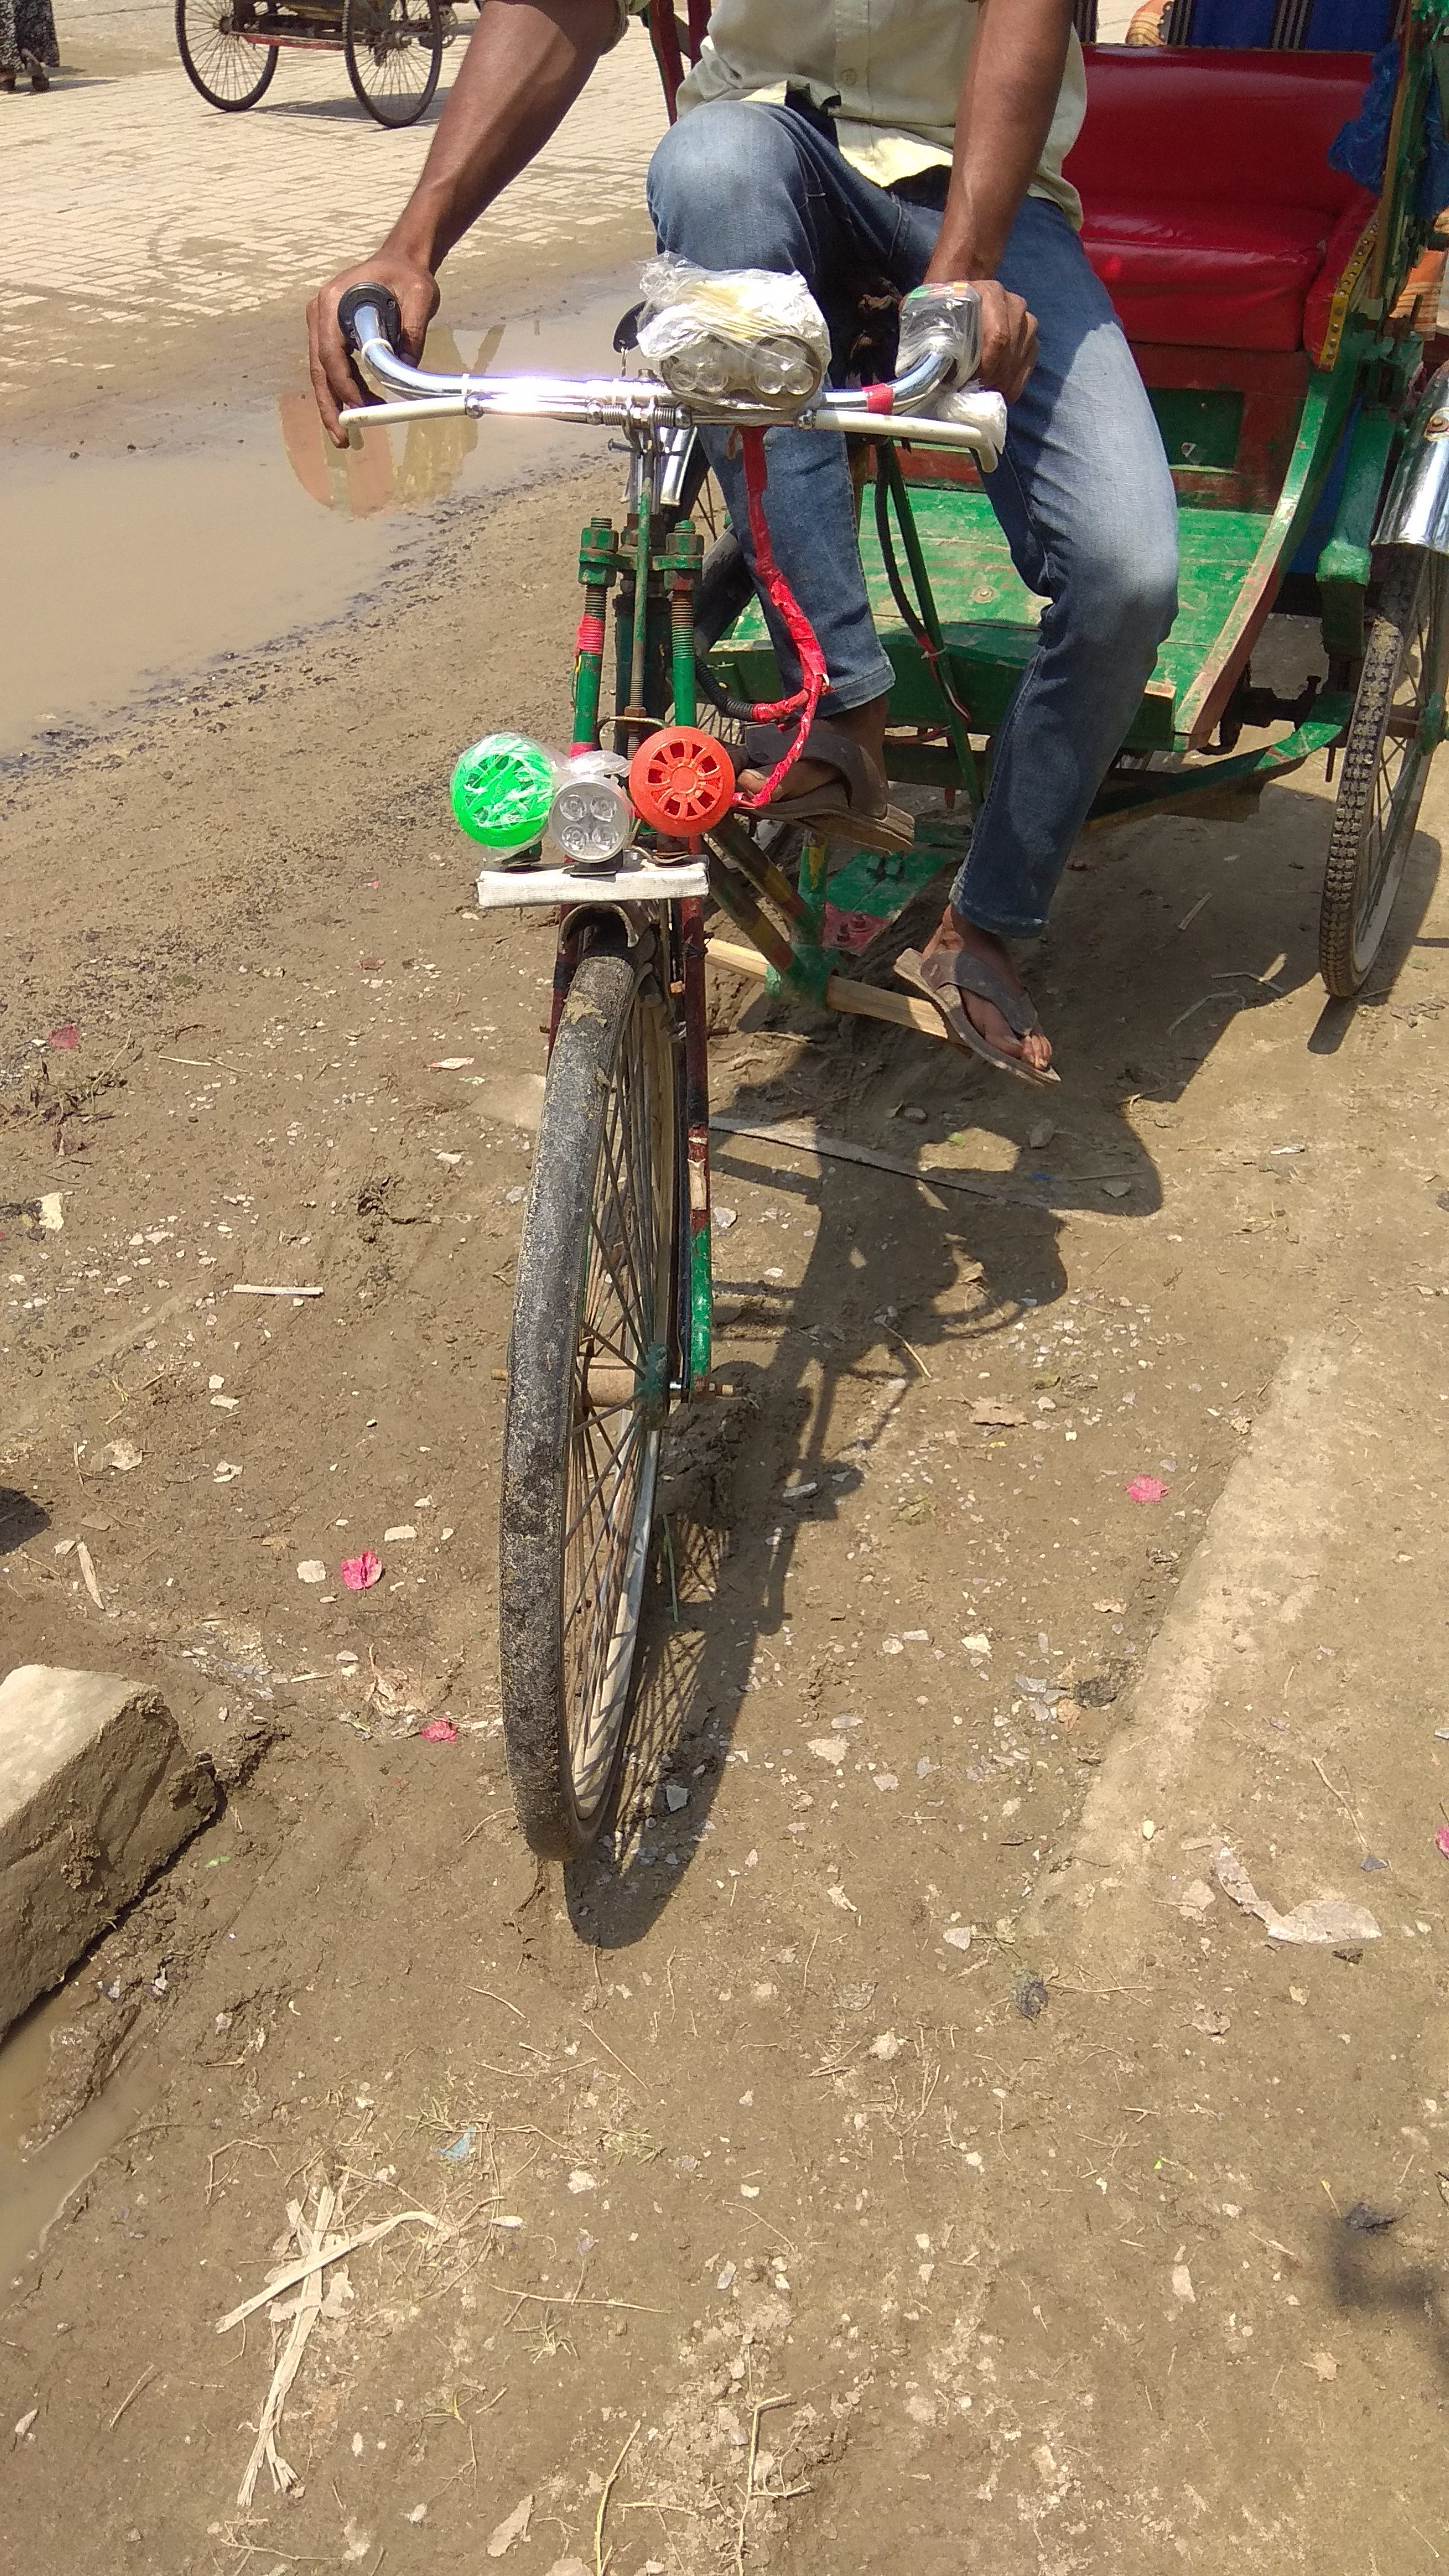Rickshaw: (548, 7, 1440, 1851), (156, 2, 474, 122)
